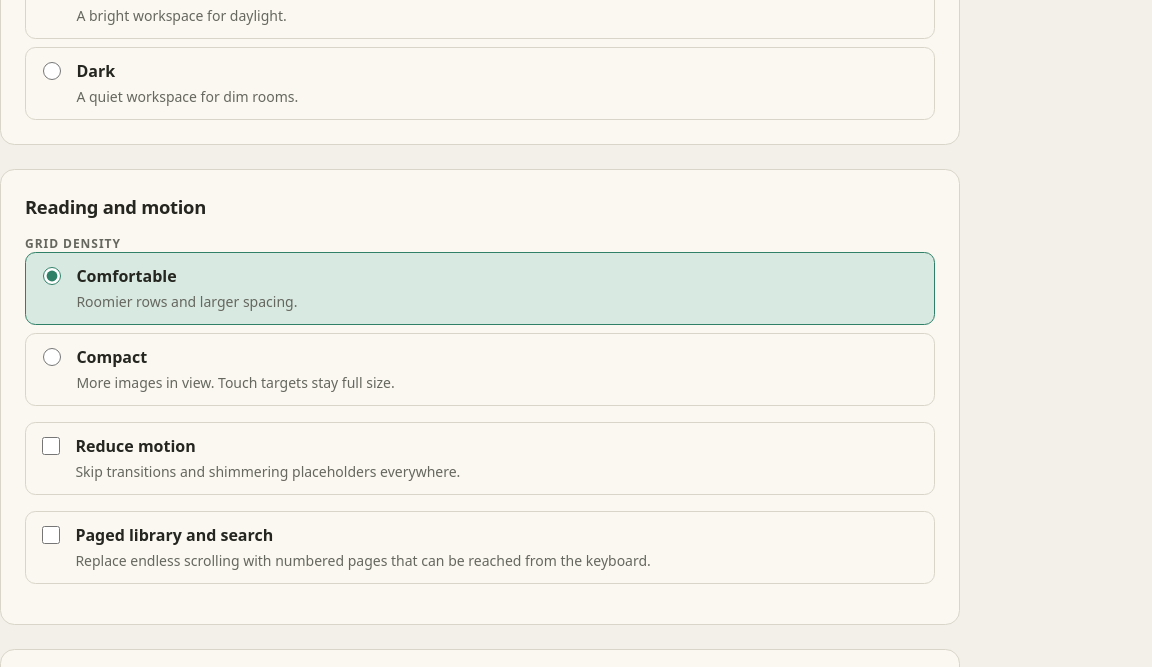
Test: settings: device preferences › clears the alert once the preferences are read again
This screenshot has width=1152, height=667.
(page scrolled)
Click the radio button labelled "Compact" at (52, 357), box [43, 348, 61, 366]
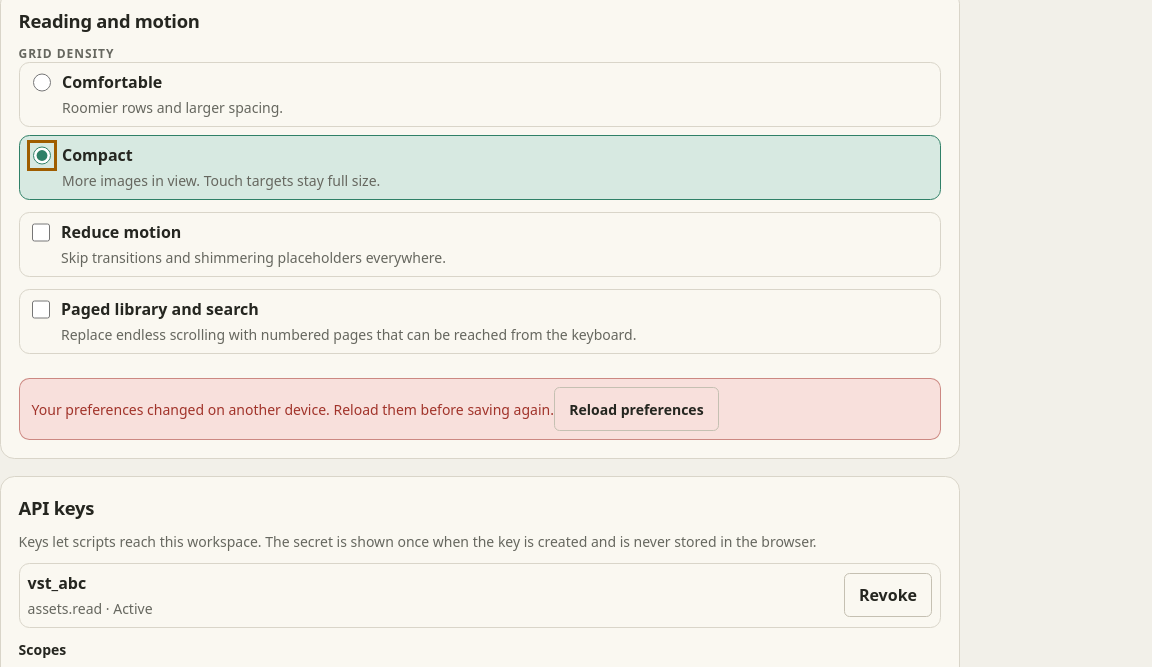
Expected: the message is shown, [19, 378, 941, 440]
Click the button "Reload preferences" at (636, 409), box [554, 387, 719, 431]
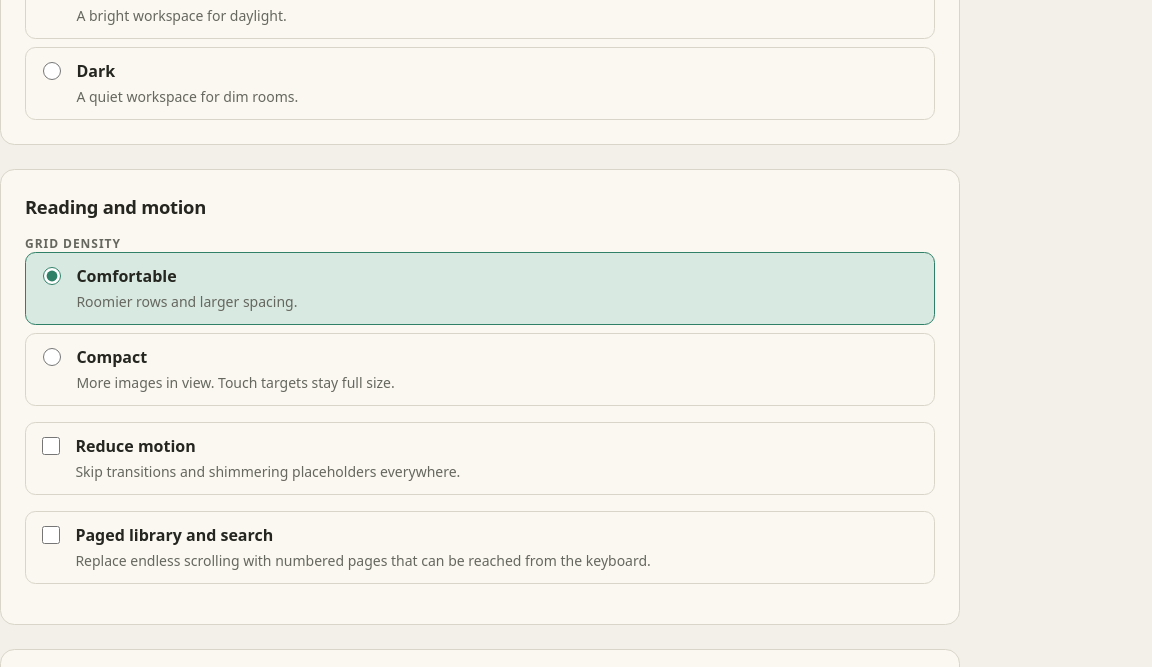
Expected: the message is gone
